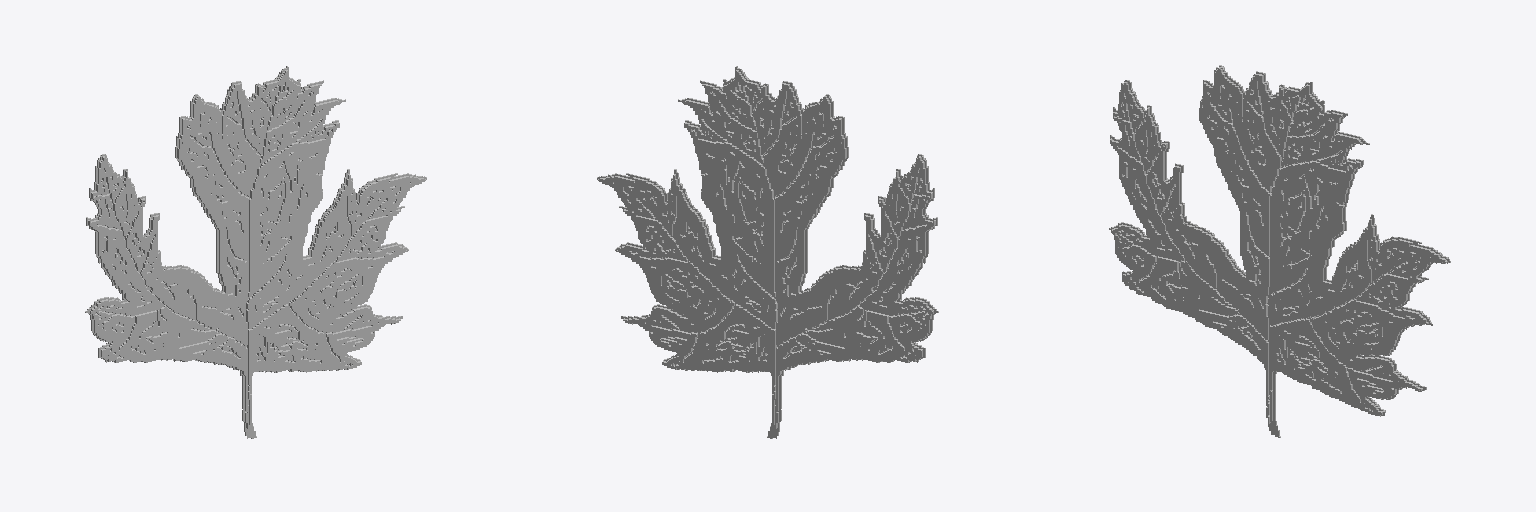
File: Parsley.obj
3 views of the same model, side by side, from view 1: azimuth 30°, elevation 25°; view 2: azimuth 150°, elevation 25°; view 3: azimuth 330°, elevation 25° (orthographic).
Visible parts, largest first — view 1: object 1; view 2: object 1; view 3: object 1.
Part boxes in pixels (left/top/right/bottom): object 1: left=85, top=66, right=426, bottom=438; object 1: left=597, top=66, right=938, bottom=438; object 1: left=1109, top=65, right=1450, bottom=437.
Size of the model in its own units: 24.9 by 25.3 by 0.5.